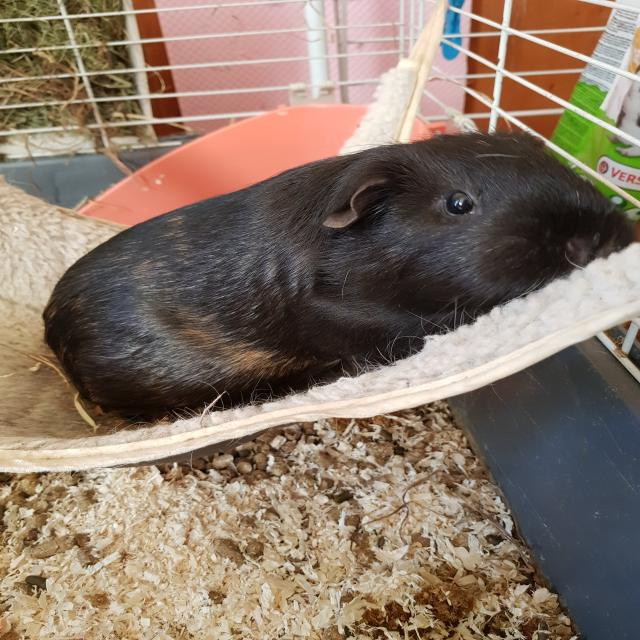guinea pig: (41, 132, 640, 424)
